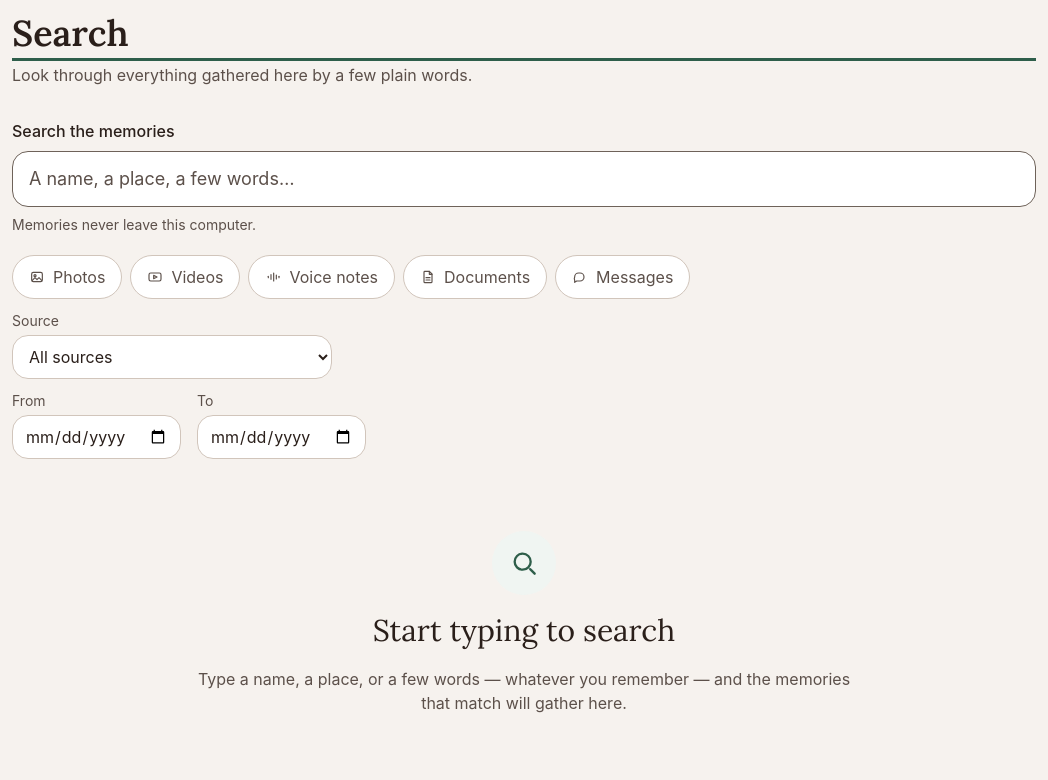
Test case: Search — the search box and querying › renders matching results with a caption, a readable date, and a type label
The image size is (1048, 780).
Type "beach" into the search field at [524, 179], box [12,151,1036,207]
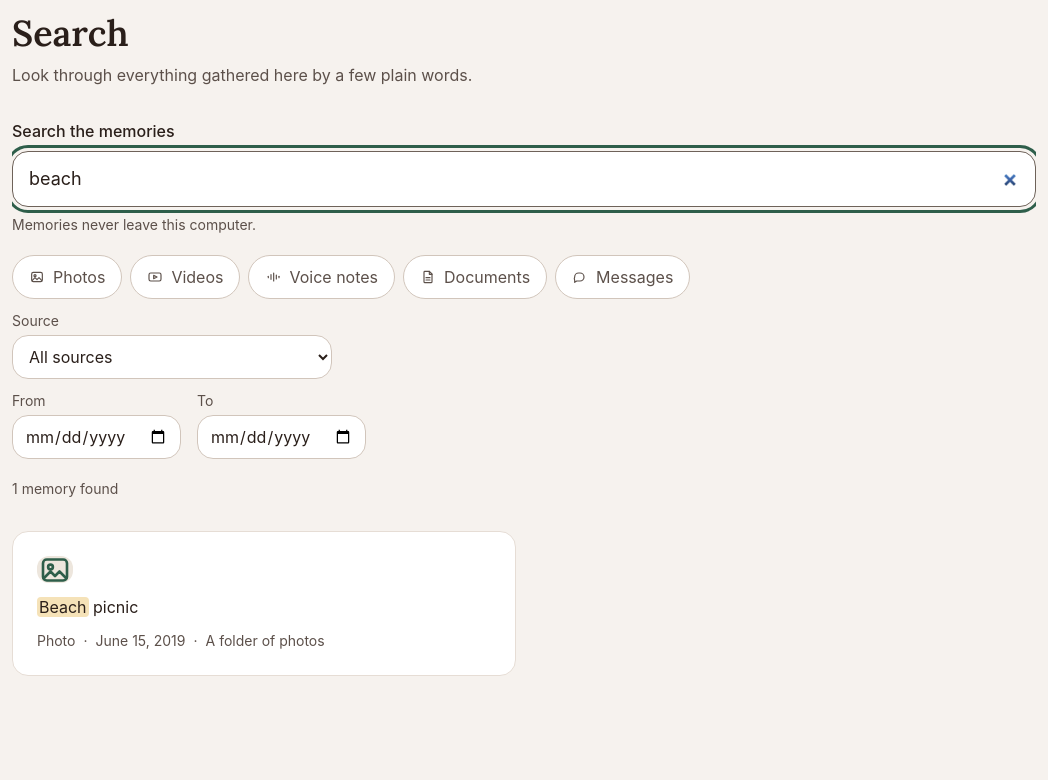
Expected: the text "June 15, 2019" is shown, [96,631,186,651]
Expected: the text "Photo" is shown, [37,631,76,651]
